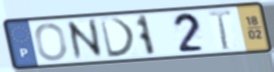1: (134, 13, 159, 58)
2: (172, 11, 209, 56)
D: (98, 16, 138, 60)
N: (64, 17, 107, 63)
O: (34, 22, 70, 63)
T: (206, 8, 234, 52)
